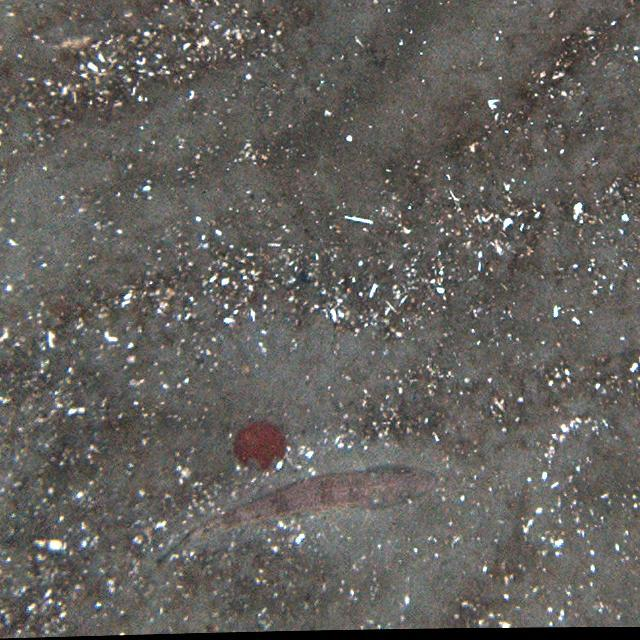roundfish: (157, 463, 441, 565)
